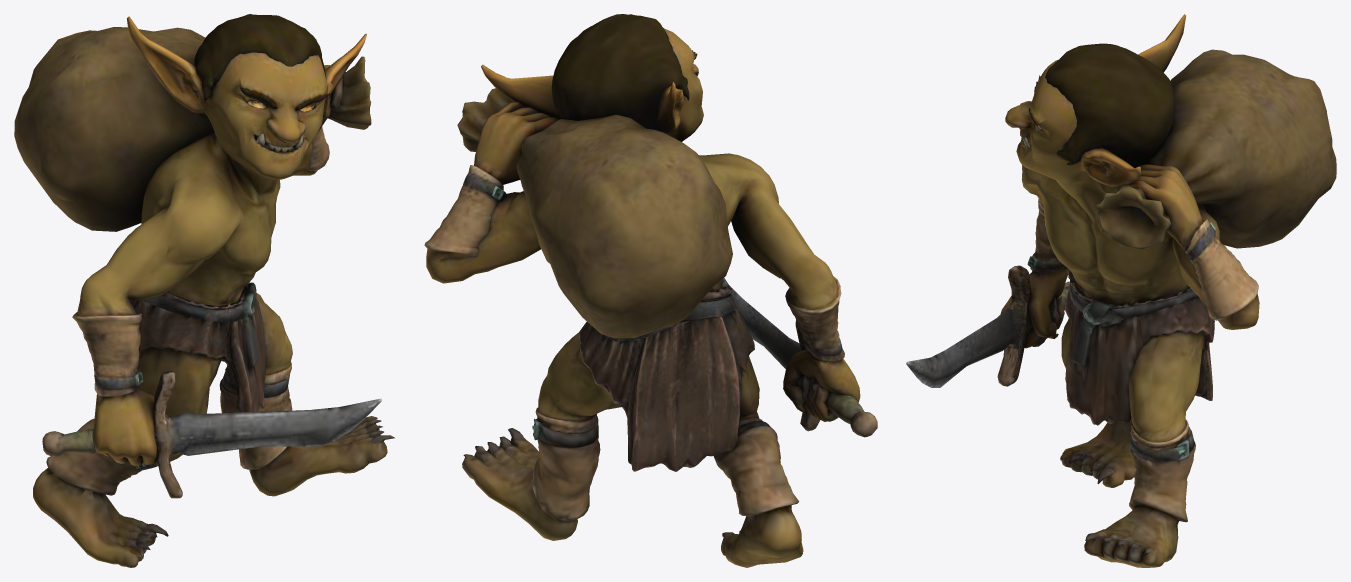
The model's file is MZ4250 - Goblin Minion_1 2025.glb.
3 renders of one model, left to right at view 1: azimuth 30°, elevation 25°; view 2: azimuth 150°, elevation 25°; view 3: azimuth 270°, elevation 25°, orthographic. The views are drawn at different scales.
Visible parts, largest first — view 1: Goblin Minion 2.001; view 2: Goblin Minion 2.001; view 3: Goblin Minion 2.001.
Part boxes in pixels (left/top/right/bottom): Goblin Minion 2.001: left=14, top=14, right=394, bottom=567; Goblin Minion 2.001: left=424, top=14, right=877, bottom=567; Goblin Minion 2.001: left=906, top=14, right=1336, bottom=567.
Bounding box in the file's own units: 47.26 × 61.04 × 48.58.
Materials: 1 (1 with a texture image).
